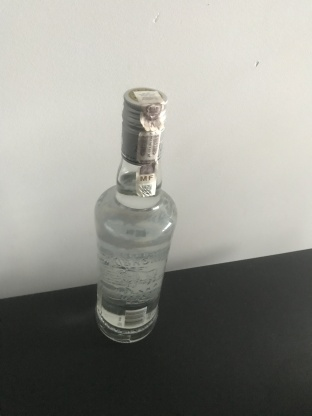nakretka: (119, 84, 169, 166)
